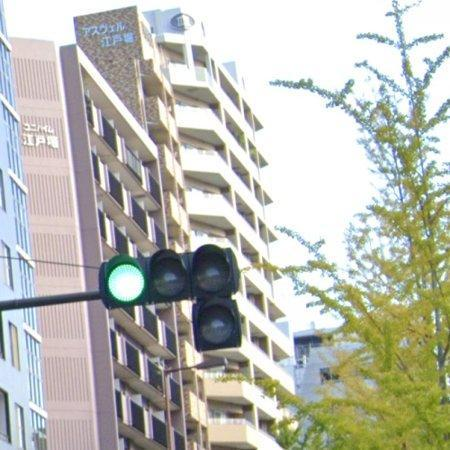traffic lights: (89, 240, 243, 304), (187, 298, 247, 349)
